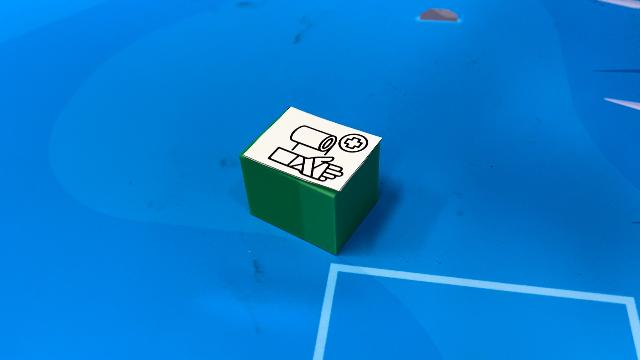bandage: (238, 104, 384, 256)
